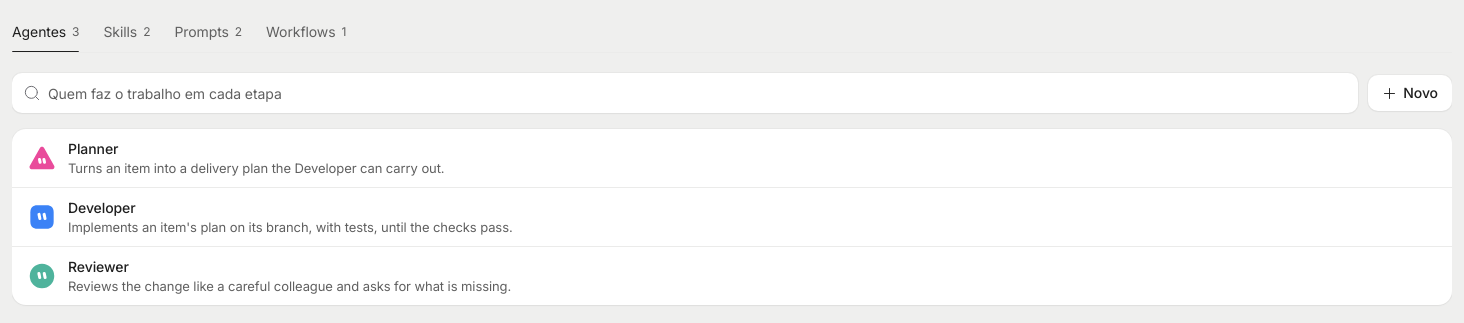
Test case: biblioteca › lista as seções declaradas e os itens da seção escolhida
The width and height of the screenshot is (1464, 323).
Click the button "Skills 2" at (127, 32), box [103,12,150,52]
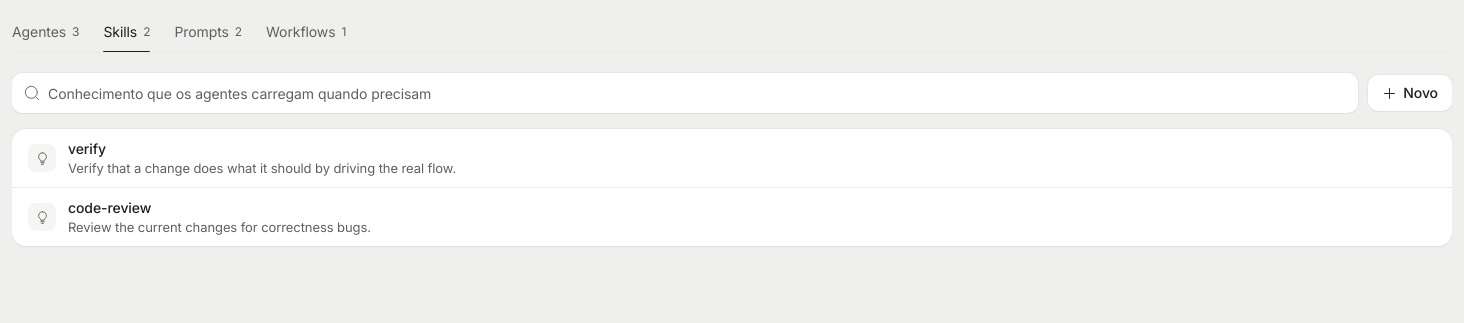
Expected: the number of list items is 2, [12,129,1452,187]; [12,187,1452,246]
